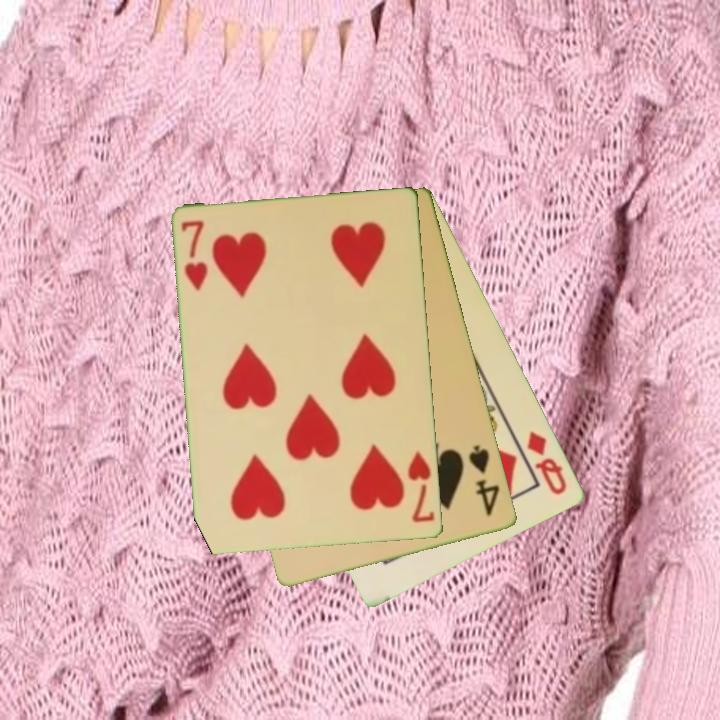4s: (465, 441, 503, 520)
7h: (404, 448, 438, 526), (178, 217, 212, 294)
Qd: (524, 427, 571, 499)
